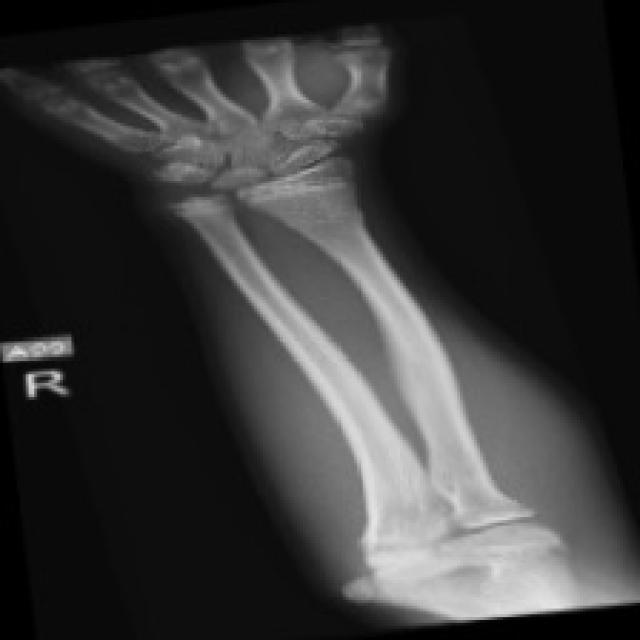fracture: (375, 285, 483, 452)
